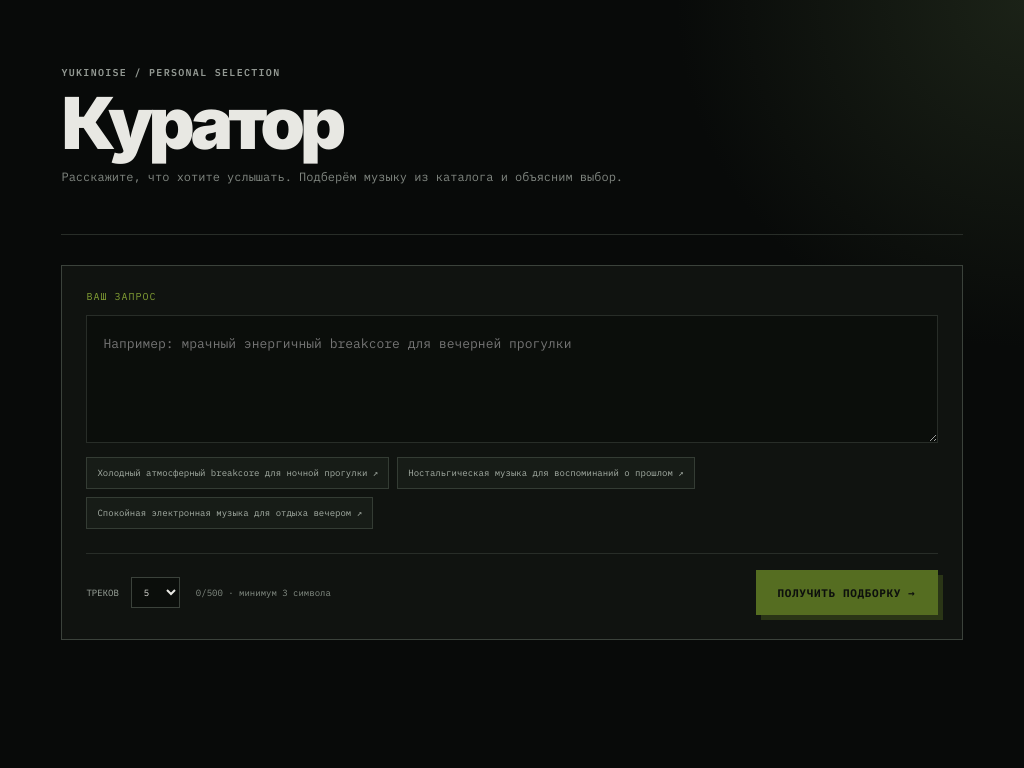
Scenario: CuratorView › prevents duplicate submissions while the response is pending
The image size is (1024, 768).
Type "Холодная музыка для прогулки" into the text box labelled "ВАШ ЗАПРОС" at (512, 379), box [86,315,938,443]
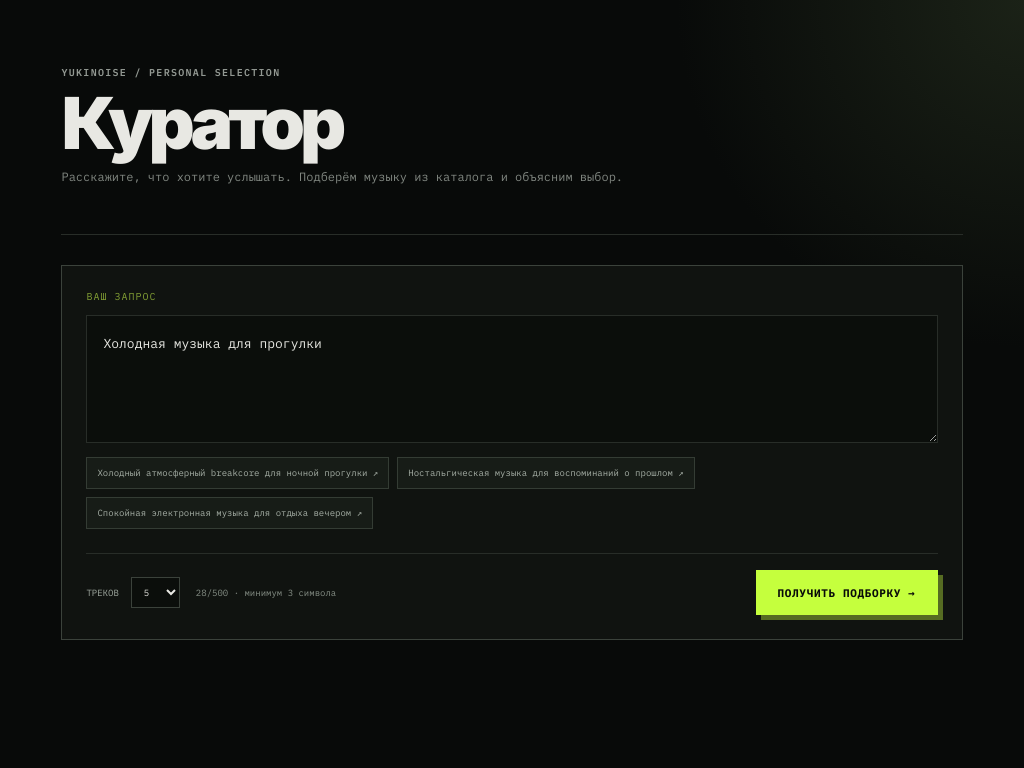
Click the button "ПОЛУЧИТЬ ПОДБОРКУ →" at (847, 593), box [756,570,938,615]
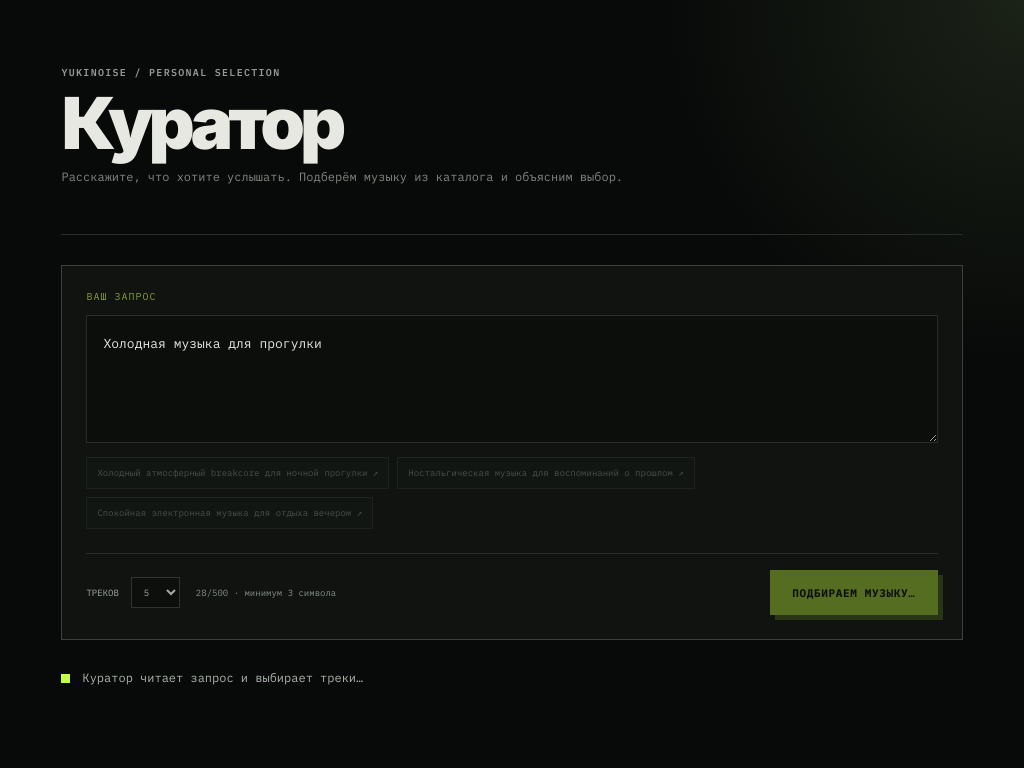
Expected: the button "ПОДБИРАЕМ МУЗЫКУ…" is disabled
Click the button "ПОДБИРАЕМ МУЗЫКУ…" at (854, 593), box [770,570,938,615]
(page scrolled)
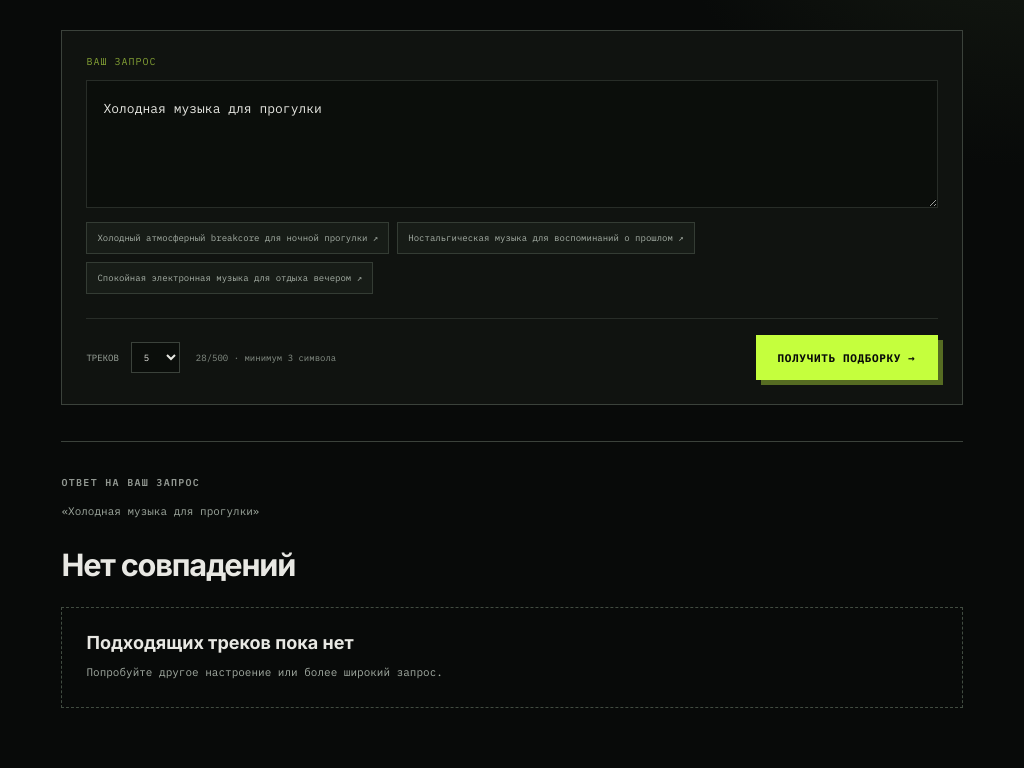
Expected: the heading "Подходящих треков пока нет" is shown, [86,632,354,653]
